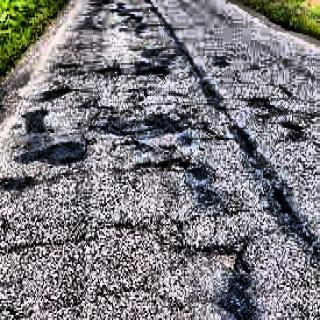pothole: (18, 138, 91, 173), (198, 242, 252, 280), (138, 150, 192, 178), (20, 108, 53, 140), (0, 170, 33, 196), (93, 63, 128, 80), (44, 82, 74, 100), (135, 64, 165, 76)
